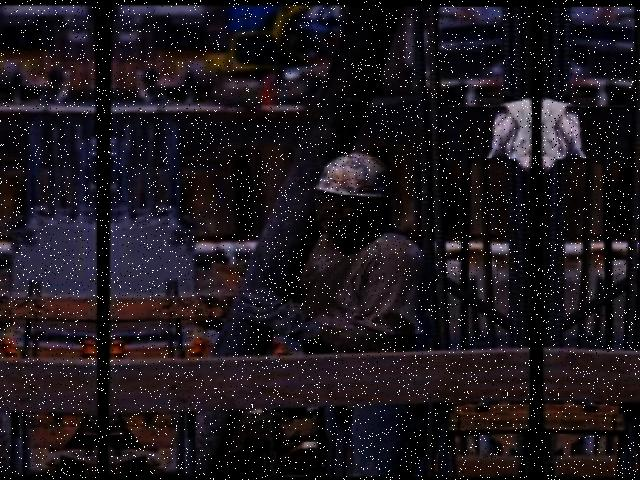Helmet: (310, 150, 400, 204)
